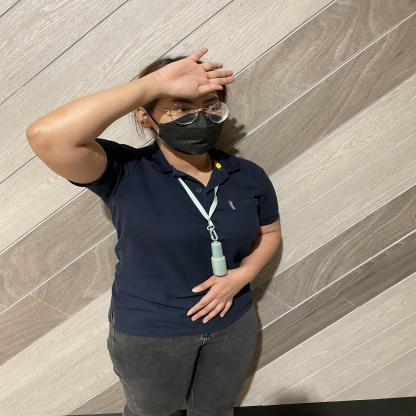Sick: (107, 34, 252, 102)
